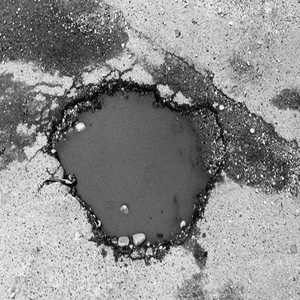pothole: (52, 78, 219, 268)
